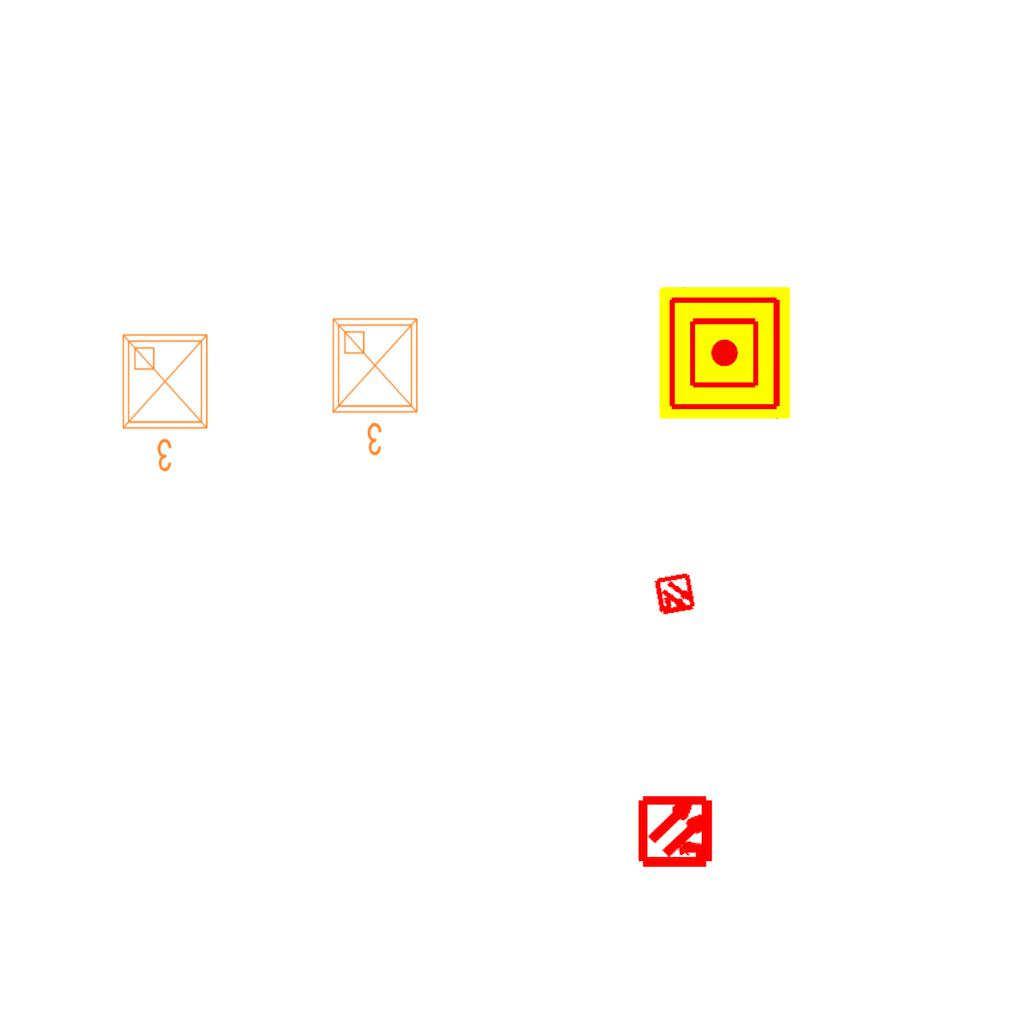Einbaudownlights_LED_Konferenzraeume: (325, 311, 429, 461), (115, 327, 219, 477)
NAM-Nichtautomatischer_Melder: (659, 287, 791, 419)
OT_Multisensormelder_(Kombination_RMO_WMD): (621, 775, 734, 888), (642, 562, 708, 628)
